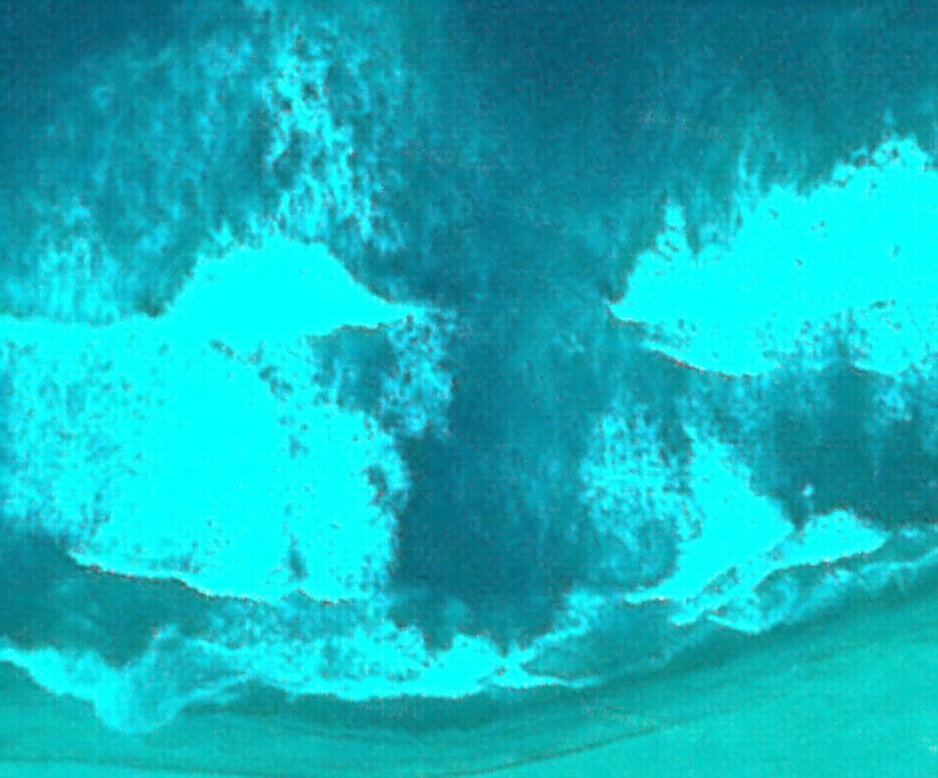rip_current: (310, 158, 737, 653)
